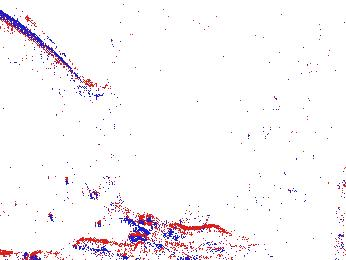glassfish: (1, 1, 100, 118)
siberian prawn: (114, 208, 270, 260)
